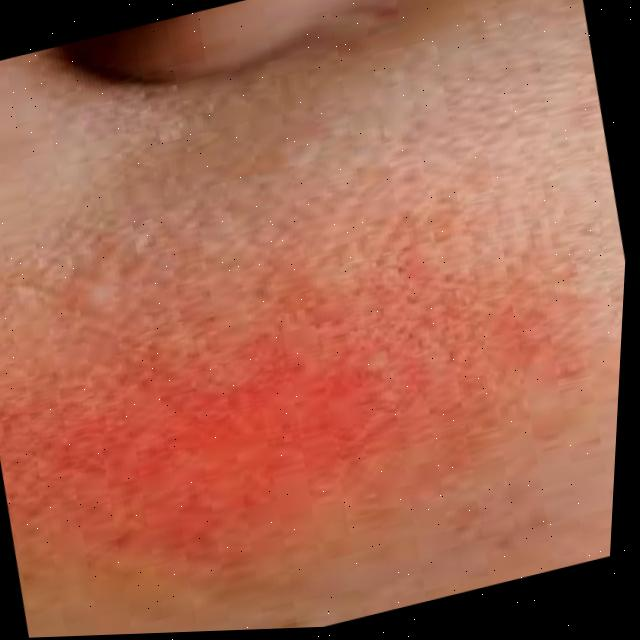Rosacea: (0, 209, 582, 618)
